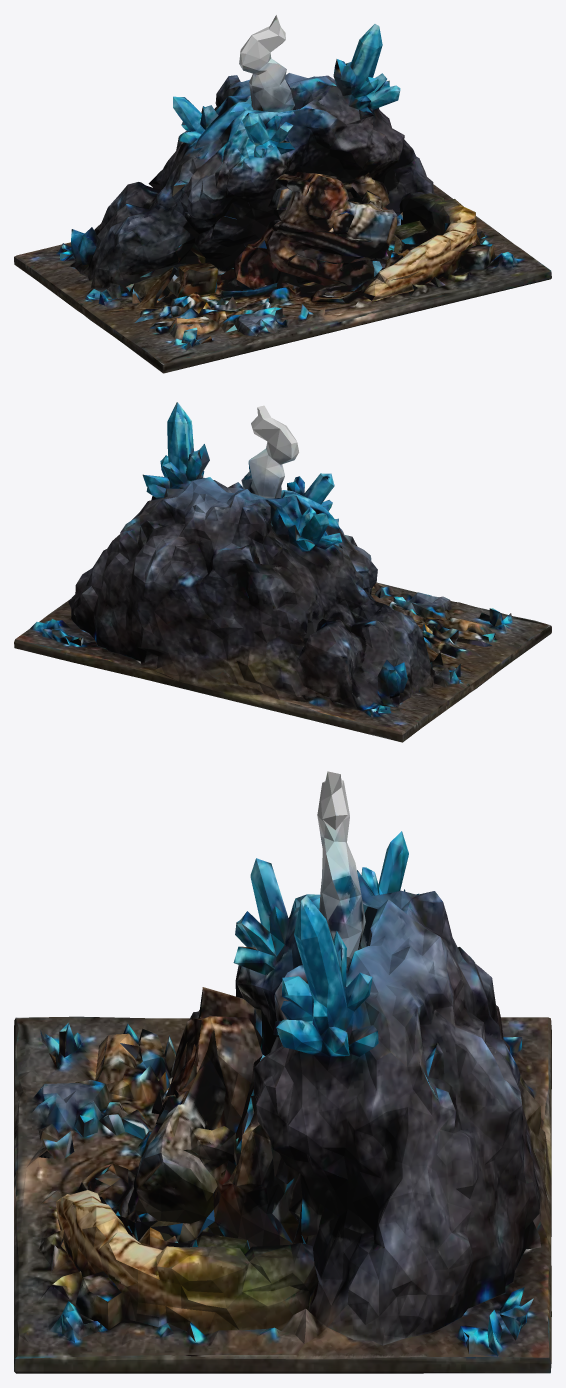
The model's file is crystal-vent-rock.glb.
The picture shows the model from 3 angles, top to bottom: view 1: azimuth 30°, elevation 25°; view 2: azimuth 150°, elevation 25°; view 3: azimuth 270°, elevation 25°; orthographic projection. The views are drawn at different scales.
Parts seen in each view (by area): view 1: tmpzmhjnd1y.ply; view 2: tmpzmhjnd1y.ply; view 3: tmpzmhjnd1y.ply.
Boxes of the visible parts, box(x1,y1,x2,y2) form: tmpzmhjnd1y.ply: box(14, 15, 551, 373); tmpzmhjnd1y.ply: box(14, 402, 551, 742); tmpzmhjnd1y.ply: box(14, 771, 551, 1373).
Size of the model in its own units: 3 by 1.8 by 2.
Materials: 1 (1 with a texture image).
